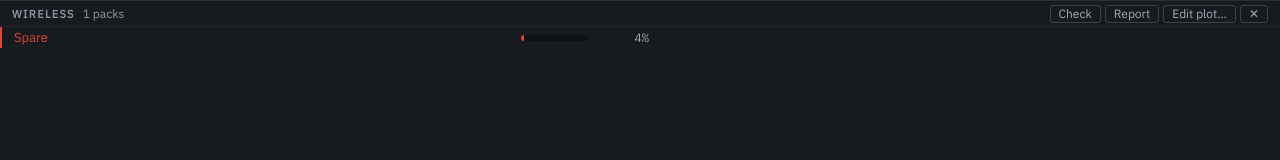
it: RfPanel › the check › asks about a channel that is reporting even when no plot names it
Step 1. Click the button with class "rf-btn" showing "Check" → (1075, 14), box [1050,4,1101,22]
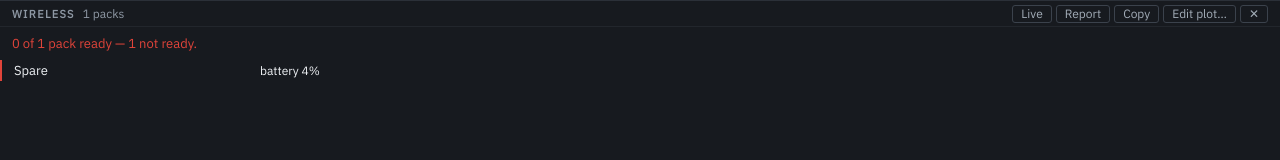
Result: the text with class "rf-check-verdict" reads "0 of 1 pack ready — 1 not ready." at [12,35,197,52]
